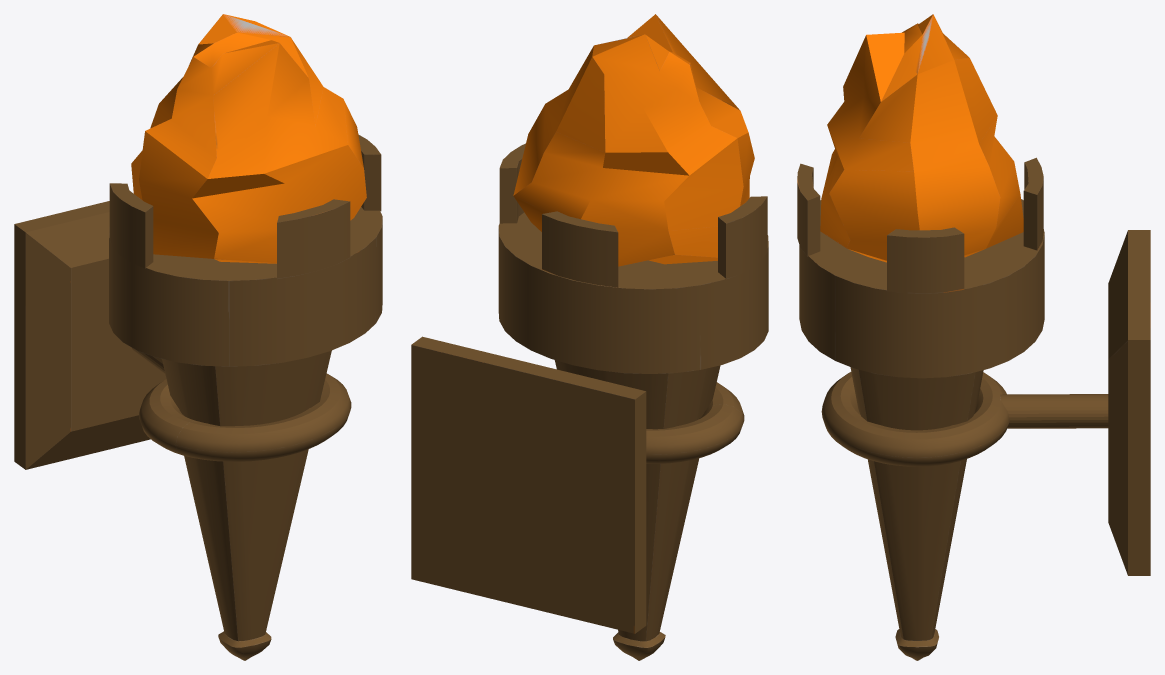
Rendered from torche petite.fbx.
3 renders of one model, left to right at view 1: azimuth 30°, elevation 25°; view 2: azimuth 150°, elevation 25°; view 3: azimuth 270°, elevation 25°, orthographic.
Visible parts, largest first — view 1: Cube.002, Cube.010, Cube.009, Cube.003, Cube.012, Cube.006, Cube.007, Cube.008; view 2: Cube.010, Cube.002, Cube.009, Cube.003, Cube.004, Cube.012, Cube.007, Cube.008; view 3: Cube.002, Cube.009, Cube.003, Cube.010, Cube.012, Cube.008, Cube.011, Cube.006, Cube.004.
Boxes of the visible parts, bbox=[...] form: Cube.002: bbox=[131, 14, 366, 263]; Cube.010: bbox=[14, 201, 166, 469]; Cube.009: bbox=[109, 207, 382, 366]; Cube.003: bbox=[162, 350, 331, 660]; Cube.012: bbox=[139, 373, 351, 461]; Cube.006: bbox=[277, 199, 350, 279]; Cube.007: bbox=[109, 183, 153, 268]; Cube.008: bbox=[358, 134, 381, 211]; Cube.010: bbox=[411, 336, 646, 633]; Cube.002: bbox=[513, 14, 754, 266]; Cube.009: bbox=[498, 212, 768, 373]; Cube.003: bbox=[554, 360, 720, 660]; Cube.004: bbox=[542, 211, 618, 287]; Cube.012: bbox=[646, 382, 744, 463]; Cube.007: bbox=[718, 196, 767, 279]; Cube.008: bbox=[499, 143, 525, 223]; Cube.002: bbox=[820, 14, 1023, 262]; Cube.009: bbox=[799, 199, 1044, 378]; Cube.003: bbox=[850, 367, 983, 660]; Cube.010: bbox=[1108, 230, 1150, 575]; Cube.012: bbox=[821, 372, 1009, 466]; Cube.008: bbox=[887, 227, 964, 293]; Cube.011: bbox=[1000, 394, 1108, 428]; Cube.006: bbox=[797, 163, 820, 256]; Cube.004: bbox=[1023, 157, 1043, 250].
Size of the model in its own units: 4 by 10 by 5.
